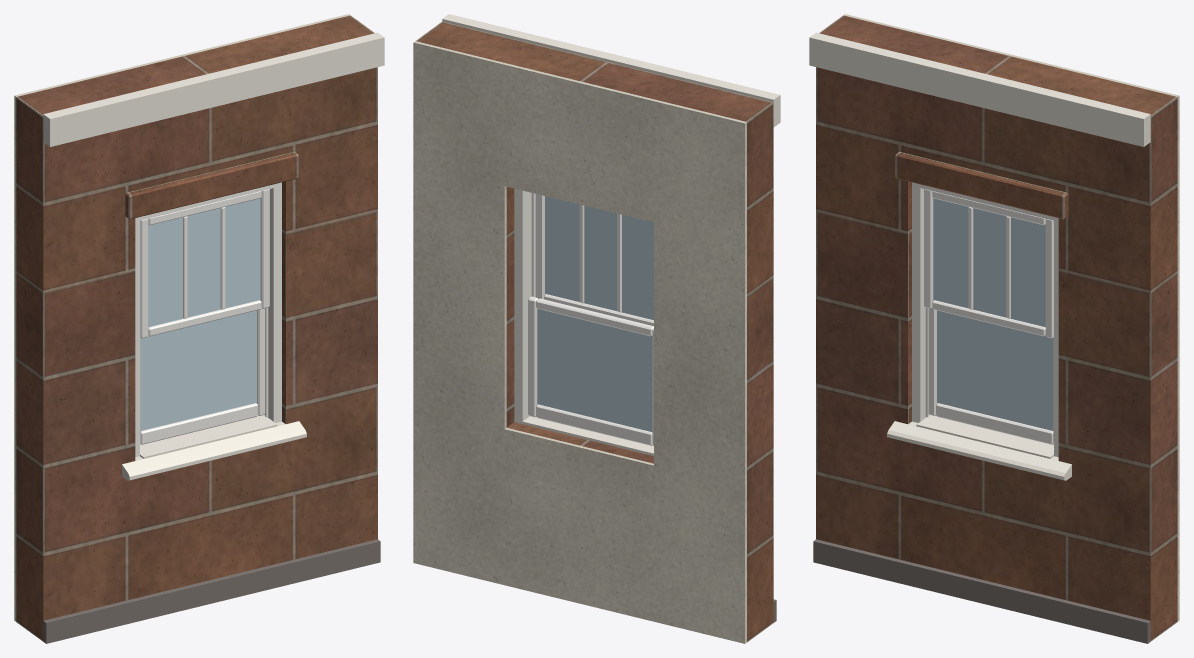
Rendered from wall_stone_window.glb.
The picture shows the model from 3 angles, left to right: view 1: azimuth 30°, elevation 25°; view 2: azimuth 150°, elevation 25°; view 3: azimuth 330°, elevation 25°; orthographic projection.
Parts seen in each view (by area): view 1: wall_stone_window_stone, wall_stone_window_glass, wall_stone_window_trim, wall_stone_window_dark, wall_stone_window_sash, wall_stone_window_frame, wall_stone_window_plaster; view 2: wall_stone_window_plaster, wall_stone_window_stone, wall_stone_window_glass, wall_stone_window_sash, wall_stone_window_trim, wall_stone_window_frame; view 3: wall_stone_window_stone, wall_stone_window_glass, wall_stone_window_trim, wall_stone_window_dark, wall_stone_window_sash, wall_stone_window_frame, wall_stone_window_plaster.
Part boxes in pixels (x1,y1,x2,y2): wall_stone_window_stone: [16, 15, 377, 641]; wall_stone_window_glass: [140, 198, 260, 430]; wall_stone_window_trim: [43, 32, 384, 480]; wall_stone_window_dark: [43, 539, 380, 643]; wall_stone_window_sash: [140, 189, 269, 444]; wall_stone_window_frame: [135, 182, 281, 456]; wall_stone_window_plaster: [14, 14, 350, 621]; wall_stone_window_plaster: [413, 41, 746, 643]; wall_stone_window_stone: [416, 21, 773, 642]; wall_stone_window_glass: [537, 196, 653, 431]; wall_stone_window_sash: [528, 194, 653, 445]; wall_stone_window_trim: [442, 14, 780, 455]; wall_stone_window_frame: [514, 188, 535, 423]; wall_stone_window_stone: [816, 15, 1177, 641]; wall_stone_window_glass: [933, 198, 1053, 430]; wall_stone_window_trim: [809, 32, 1150, 480]; wall_stone_window_dark: [813, 539, 1150, 643]; wall_stone_window_sash: [924, 189, 1053, 444]; wall_stone_window_frame: [912, 182, 1058, 456]; wall_stone_window_plaster: [843, 14, 1179, 621].
Bounding box in the file's own units: 2 × 3.02 × 0.38.
Materials: 7 (2 with a texture image).
